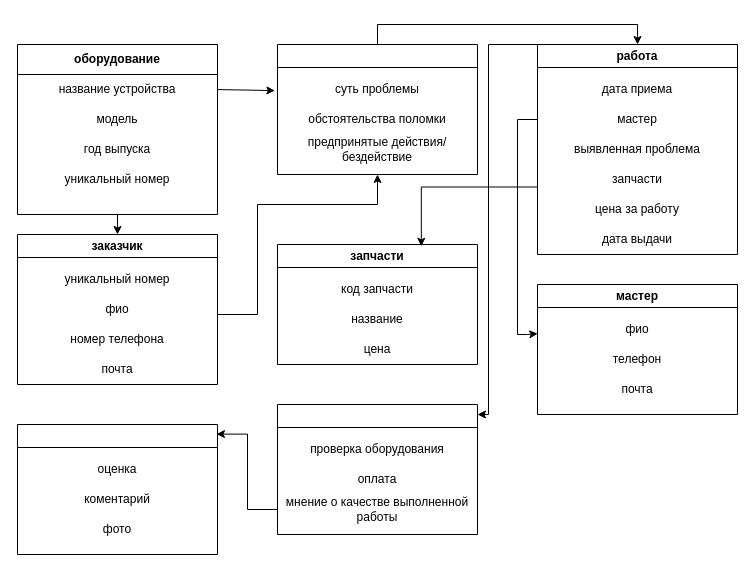
Some shapes in this 755 by 572 pixel diagram are drawn without their labels. Each missing label, with the box of its shape:
отзыв: (16, 424, 218, 554)
оценка работы: (276, 404, 478, 534)
проблема: (276, 44, 478, 174)
